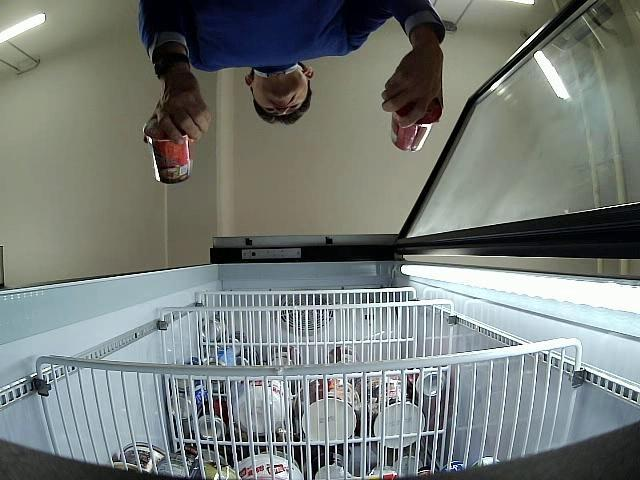02_shinRamen_S: (392, 92, 442, 152), (150, 140, 192, 184)
